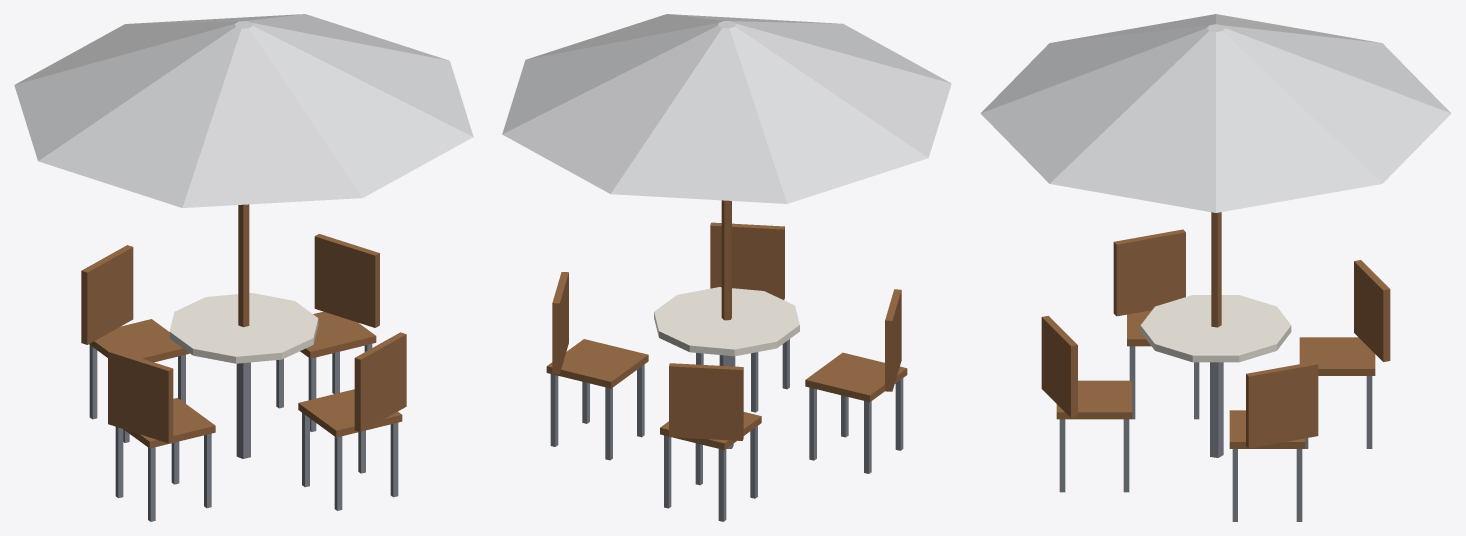
The model's file is cafebord.glb.
3 renders of one model, left to right at view 1: azimuth 30°, elevation 25°; view 2: azimuth 150°, elevation 25°; view 3: azimuth 270°, elevation 25°, orthographic. The views are drawn at different scales.
Parts seen in each view (by area): view 1: cafebord; view 2: cafebord; view 3: cafebord.
Part boxes in pixels (<box>): cafebord: <box>14,14,473,521</box>; cafebord: <box>502,14,951,521</box>; cafebord: <box>980,14,1451,521</box>.
Size of the model in its own units: 2.5 by 2.5 by 2.5.
